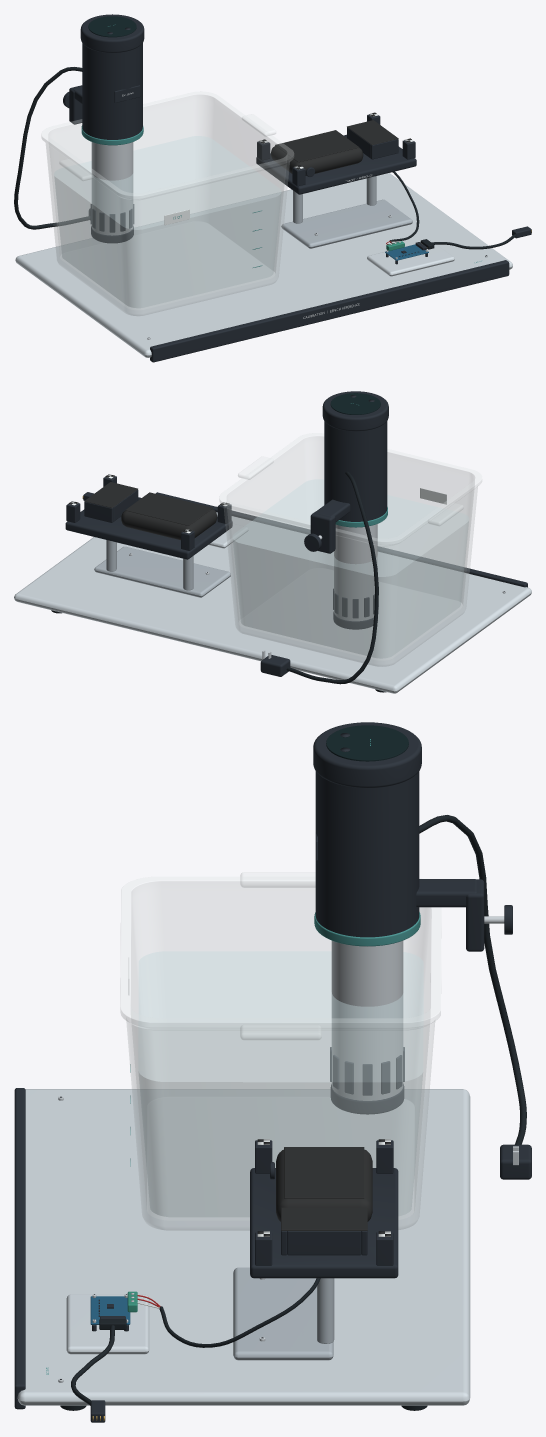
File: calibration.glb
3 renders of one model, top to bottom at view 1: azimuth 30°, elevation 25°; view 2: azimuth 150°, elevation 25°; view 3: azimuth 270°, elevation 25°, orthographic. The views are drawn at different scales.
Visible parts, largest first — view 1: CAL_02_Cambro_12qt_bath | CAL representative clear bath poly, CAL tray top, CAL illustrative water volume, CAL_03_ISV100W_circulator | CAL graphite polymer, CAL front identification rail, CAL_04_Target_reference_plane | CAL graphite polymer, CAL_04_Target_reference_plane | CAL brushed aluminium, CAL_04_Target_reference_plane | CAL matte black reference su, CAL_03_ISV100W_circulator | CAL stainless probe and sleeve, CAL readout carrier, CAL circulator independent mains lead, CAL unpowered control face; view 2: CAL_02_Cambro_12qt_bath | CAL representative clear bath poly, CAL tray top, CAL illustrative water volume, CAL_03_ISV100W_circulator | CAL graphite polymer, CAL_04_Target_reference_plane | CAL graphite polymer, CAL_04_Target_reference_plane | CAL brushed aluminium, CAL_04_Target_reference_plane | CAL matte black reference su, CAL_03_ISV100W_circulator | CAL stainless probe and sleeve, CAL front identification rail, CAL circulator independent mains lead, CAL unpowered control face, CAL readout carrier; view 3: CAL tray top, CAL_02_Cambro_12qt_bath | CAL representative clear bath poly, CAL illustrative water volume, CAL_03_ISV100W_circulator | CAL graphite polymer, CAL_04_Target_reference_plane | CAL graphite polymer, CAL_03_ISV100W_circulator | CAL stainless probe and sleeve, CAL_04_Target_reference_plane | CAL brushed aluminium, CAL_04_Target_reference_plane | CAL matte black reference su, CAL front identification rail, CAL readout carrier, CAL circulator independent mains lead, CAL unpowered control face (+4 smaller).
Part boxes in pixels (<box>): CAL_02_Cambro_12qt_bath | CAL representative clear bath poly: <box>41,91,293,315</box>; CAL tray top: <box>15,173,512,357</box>; CAL illustrative water volume: <box>54,136,281,307</box>; CAL_03_ISV100W_circulator | CAL graphite polymer: <box>63,14,144,242</box>; CAL front identification rail: <box>150,260,509,362</box>; CAL_04_Target_reference_plane | CAL graphite polymer: <box>256,114,416,194</box>; CAL_04_Target_reference_plane | CAL brushed aluminium: <box>281,176,412,248</box>; CAL_04_Target_reference_plane | CAL matte black reference su: <box>261,112,411,175</box>; CAL_03_ISV100W_circulator | CAL stainless probe and sleeve: <box>91,142,133,235</box>; CAL readout carrier: <box>367,240,454,276</box>; CAL circulator independent mains lead: <box>14,67,90,229</box>; CAL unpowered control face: <box>88,16,136,37</box>; CAL_02_Cambro_12qt_bath | CAL representative clear bath poly: <box>219,433,481,666</box>; CAL tray top: <box>14,512,531,693</box>; CAL illustrative water volume: <box>232,479,468,658</box>; CAL_03_ISV100W_circulator | CAL graphite polymer: <box>260,391,388,676</box>; CAL_04_Target_reference_plane | CAL graphite polymer: <box>65,476,232,559</box>; CAL_04_Target_reference_plane | CAL brushed aluminium: <box>94,540,230,597</box>; CAL_04_Target_reference_plane | CAL matte black reference su: <box>68,475,229,540</box>; CAL_03_ISV100W_circulator | CAL stainless probe and sleeve: <box>262,524,377,659</box>; CAL front identification rail: <box>155,492,527,587</box>; CAL circulator independent mains lead: <box>286,471,378,684</box>; CAL unpowered control face: <box>330,393,380,414</box>; CAL readout carrier: <box>208,523,248,548</box>; CAL tray top: <box>17,1089,470,1405</box>; CAL_02_Cambro_12qt_bath | CAL representative clear bath poly: <box>120,872,441,1230</box>; CAL illustrative water volume: <box>138,951,423,1216</box>; CAL_03_ISV100W_circulator | CAL graphite polymer: <box>313,722,531,1179</box>; CAL_04_Target_reference_plane | CAL graphite polymer: <box>250,1140,398,1278</box>; CAL_03_ISV100W_circulator | CAL stainless probe and sleeve: <box>331,916,518,1165</box>; CAL_04_Target_reference_plane | CAL brushed aluminium: <box>233,1267,334,1360</box>; CAL_04_Target_reference_plane | CAL matte black reference su: <box>257,1139,390,1236</box>; CAL front identification rail: <box>14,1088,25,1409</box>; CAL readout carrier: <box>66,1294,149,1354</box>; CAL circulator independent mains lead: <box>419,815,526,1144</box>; CAL unpowered control face: <box>326,725,408,761</box>.
Size of the model in its own units: 0.6526 by 0.3895 by 0.419.
